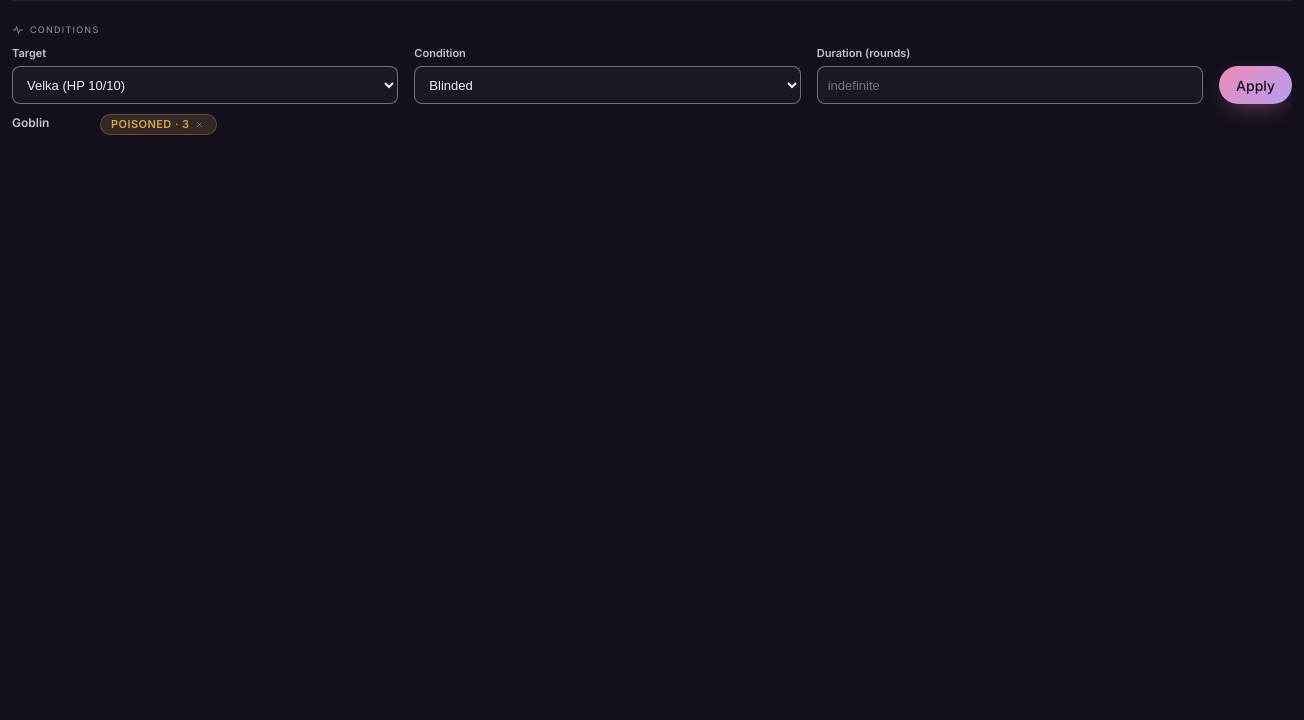
Test case: ConditionsPanel — apply wiring › surfaces a mapped refusal reason as a toast and never optimistically reports success
Click the button "Apply " at (1256, 85), box [1219, 66, 1292, 104]
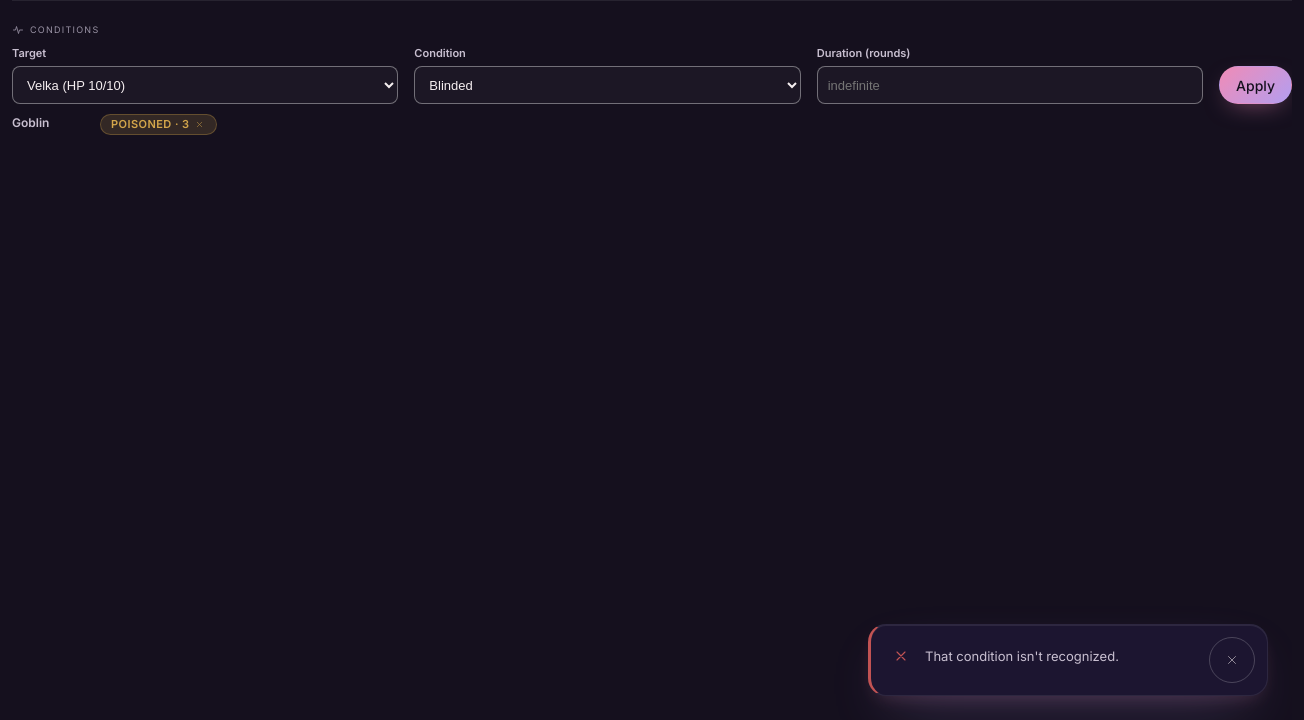
Result: the text "That condition isn't recognized." is shown at [925, 648, 1119, 664]
